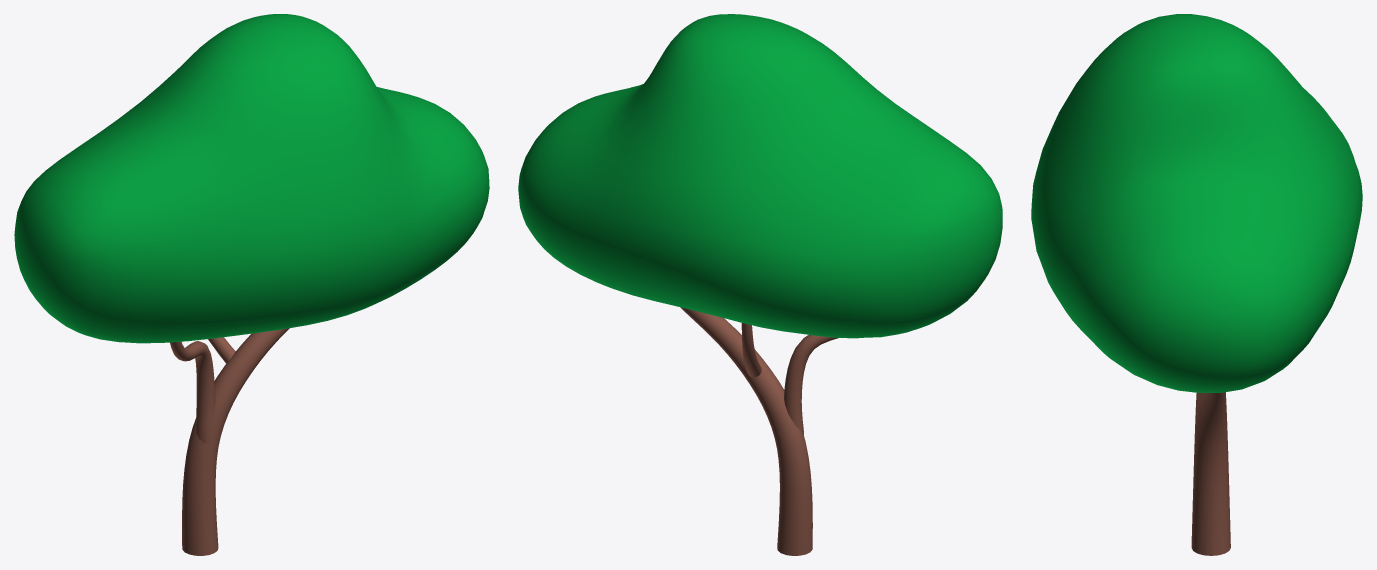
Rendered from Farm_13_Tree_2.glb.
3 renders of one model, left to right at view 1: azimuth 30°, elevation 25°; view 2: azimuth 150°, elevation 25°; view 3: azimuth 270°, elevation 25°, orthographic. The views are drawn at different scales.
Visible parts, largest first — view 1: Farm_13_Tree_2; view 2: Farm_13_Tree_2; view 3: Farm_13_Tree_2.
Boxes of the visible parts, x1=… form: Farm_13_Tree_2: x1=14, y1=14, x2=489, y2=555; Farm_13_Tree_2: x1=518, y1=14, x2=1002, y2=555; Farm_13_Tree_2: x1=1031, y1=14, x2=1362, y2=555.
Bounding box in the file's own units: 6.35 × 6.86 × 3.73.
Materials: 1 (1 with a texture image).
